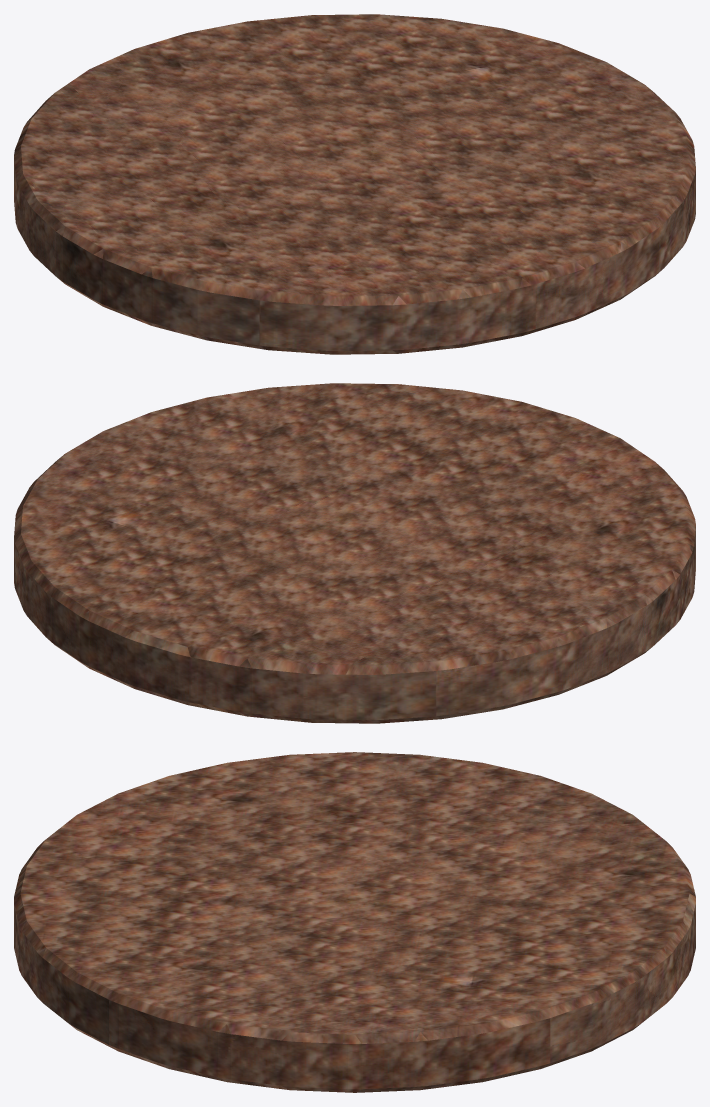
Rendered from Steak.fbx.
3 renders of one model, top to bottom at view 1: azimuth 30°, elevation 25°; view 2: azimuth 150°, elevation 25°; view 3: azimuth 270°, elevation 25°, orthographic.
Parts seen in each view (by area): view 1: Cylinder; view 2: Cylinder; view 3: Cylinder.
Part boxes in pixels (x1,y1,x2,y2): Cylinder: [14, 14, 695, 354]; Cylinder: [14, 383, 695, 723]; Cylinder: [14, 752, 695, 1092].
Size of the model in its own units: 0.0958 by 0.009 by 0.0958.
